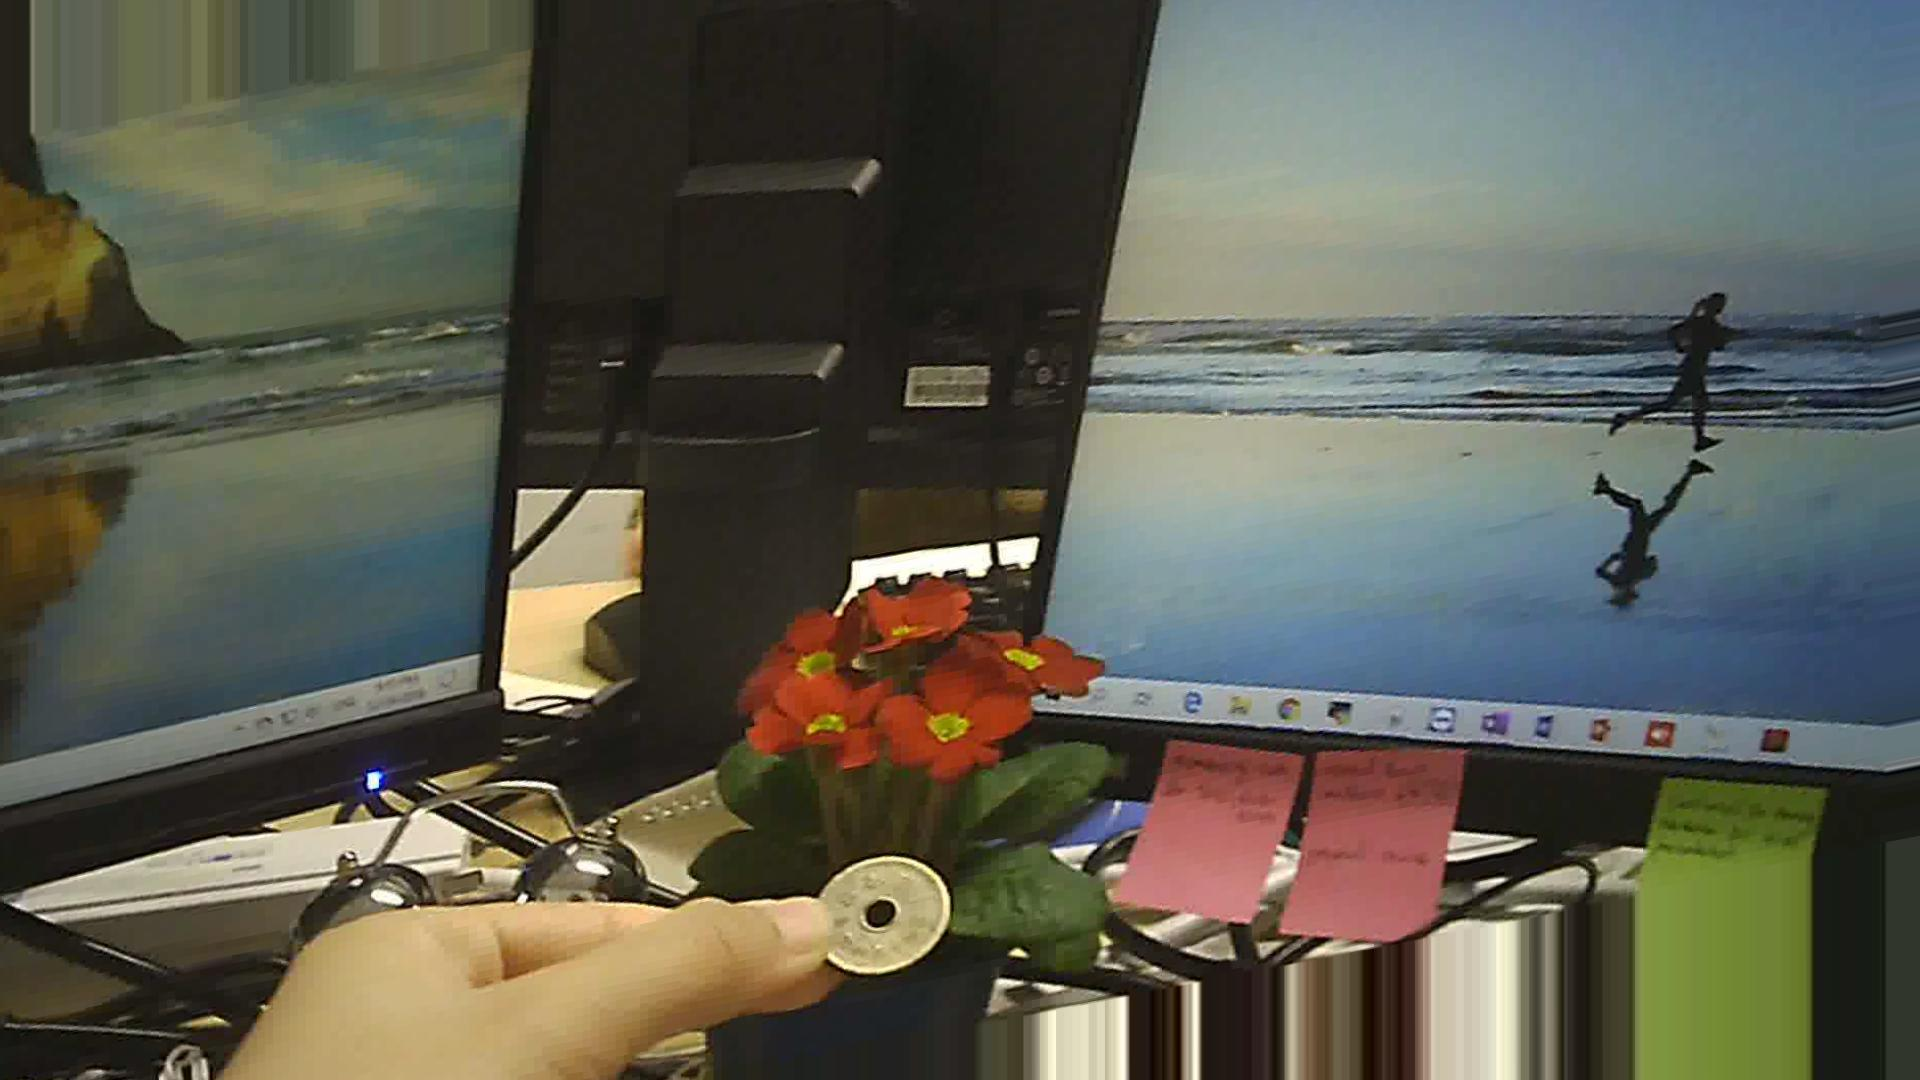5 Yen: (815, 843, 945, 980)
